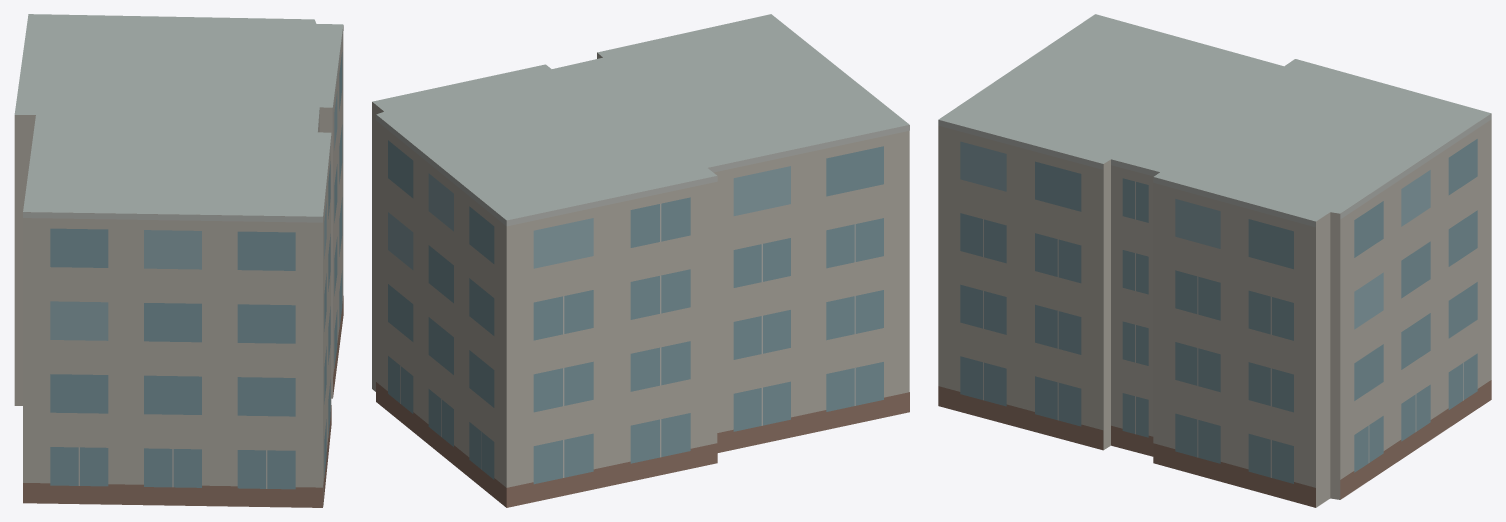
Rendered from survey-upis-33038714.glb.
3 renders of one model, left to right at view 1: azimuth 30°, elevation 25°; view 2: azimuth 150°, elevation 25°; view 3: azimuth 270°, elevation 25°, orthographic.
Visible parts, largest first — view 1: survey-upis-33038714.tmp; view 2: survey-upis-33038714.tmp; view 3: survey-upis-33038714.tmp.
Boxes of the visible parts, x1,y1,x2,y2 form: survey-upis-33038714.tmp: (14,14,343,507); survey-upis-33038714.tmp: (372,14,909,507); survey-upis-33038714.tmp: (938,14,1491,507).
Bounding box in the file's own units: 18.36 × 11.8 × 20.68.
